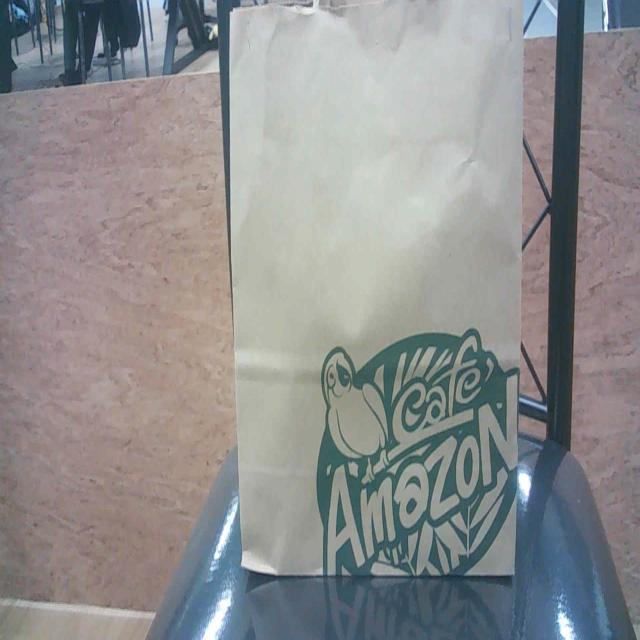bag: (230, 0, 522, 577)
